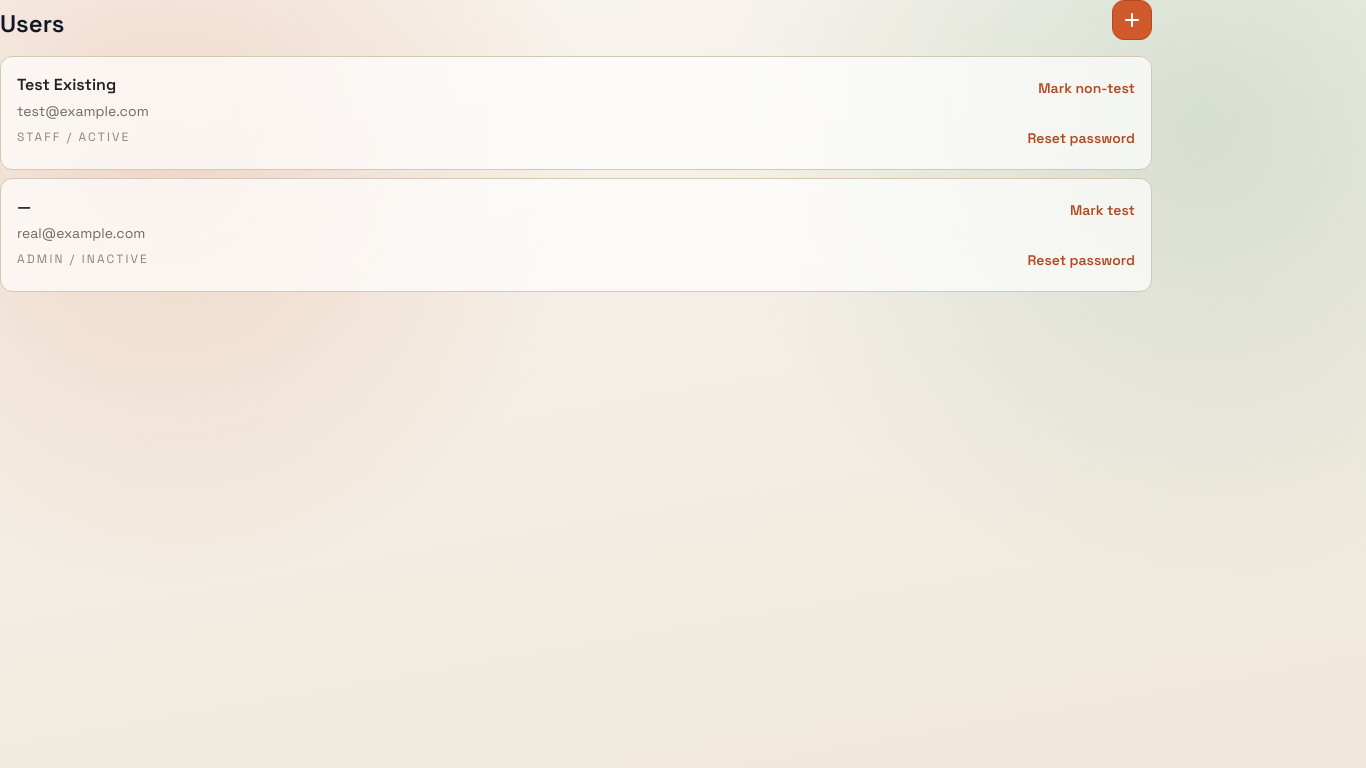
Scenario: UserRegistrationClient › submits isTest and updates the colocated user list after successful registration
This screenshot has width=1366, height=768.
Click the button named "Register user" at (1132, 20), box [1112,0,1152,40]
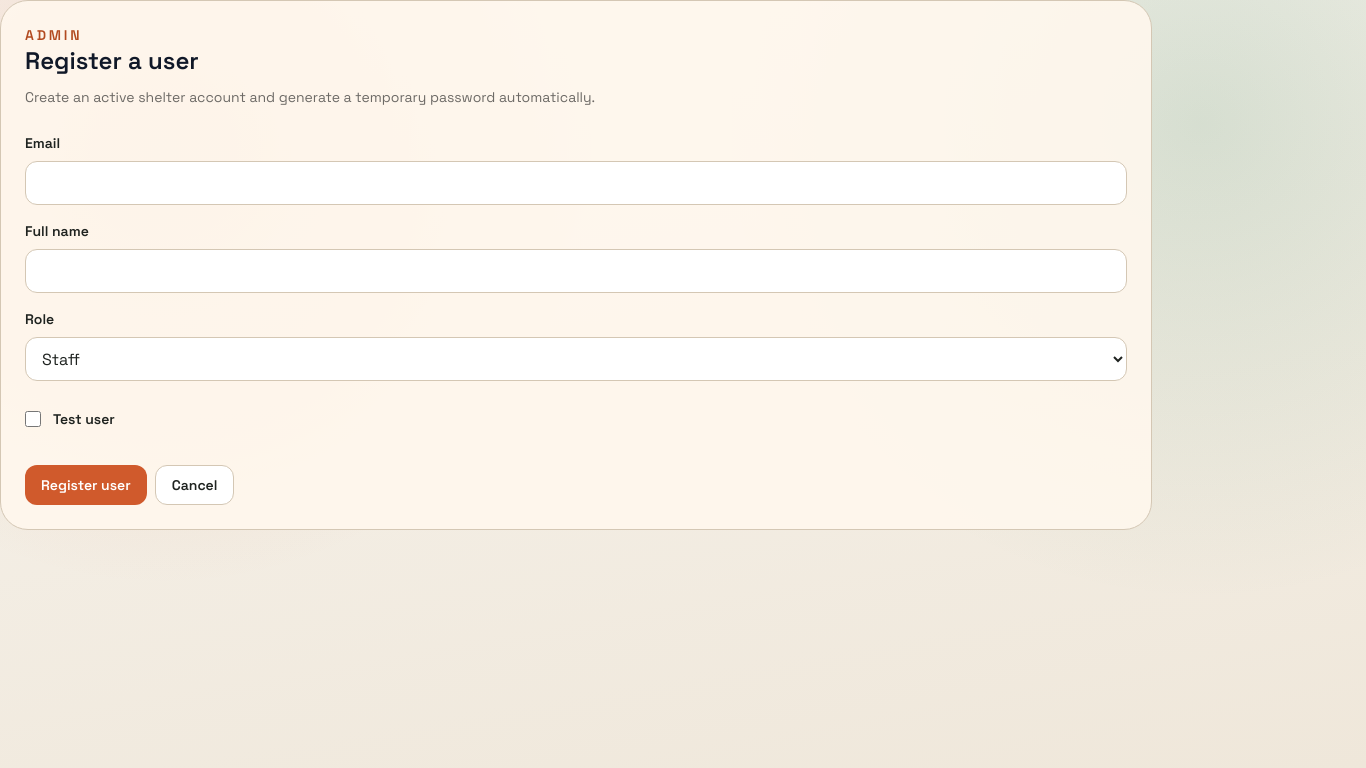
Type "new@example.com" into the field labelled "Email" at (576, 183), box [25,161,1127,205]
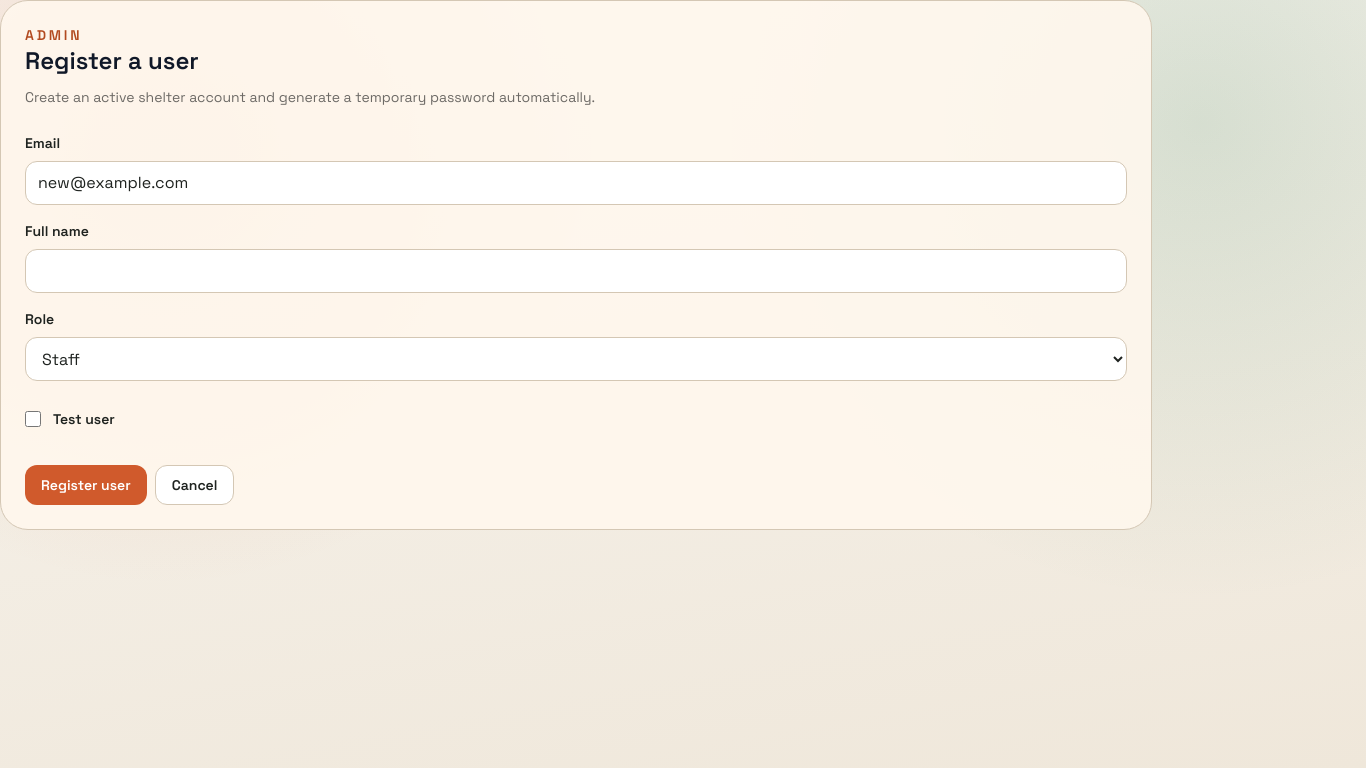
Type "New User" into the field labelled "Full name" at (576, 271), box [25,249,1127,293]
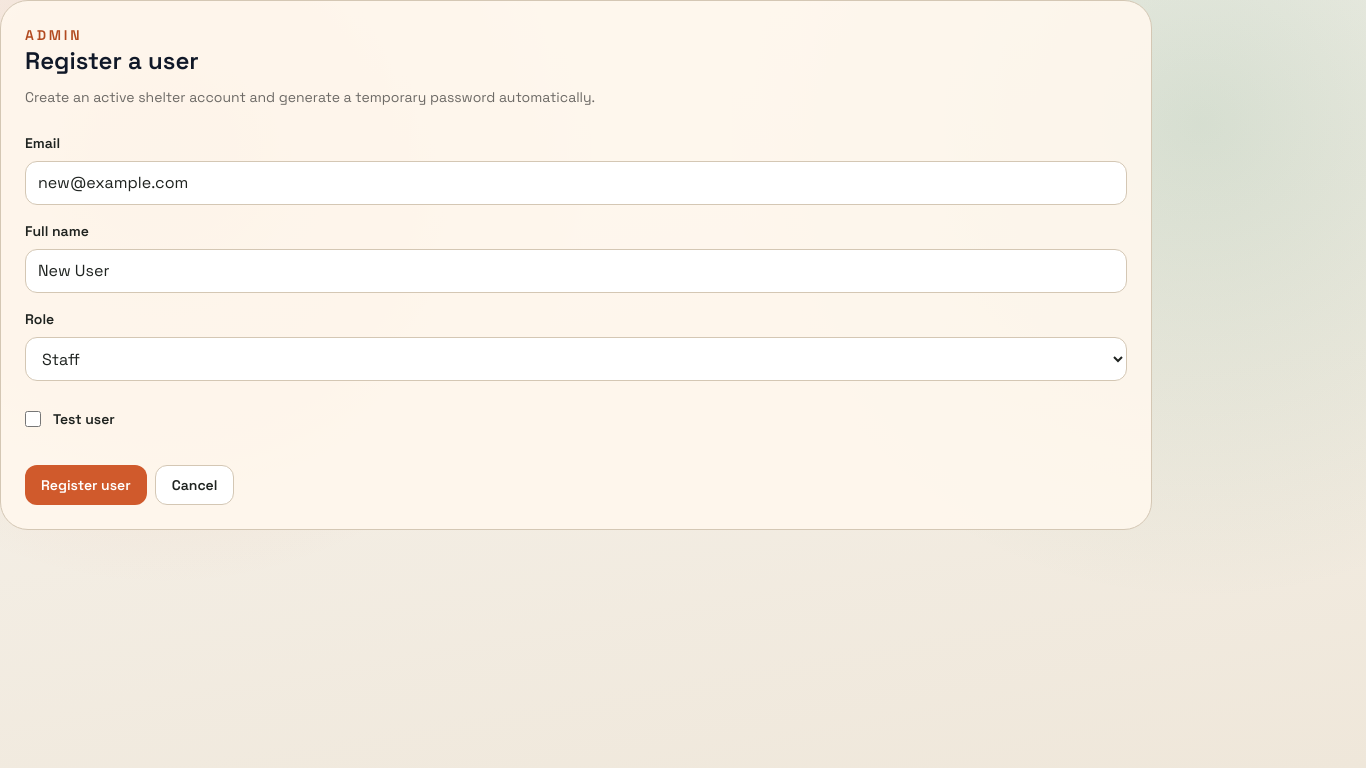
Click the checkbox labelled "Test user" at (33, 419), box [25,411,41,427]
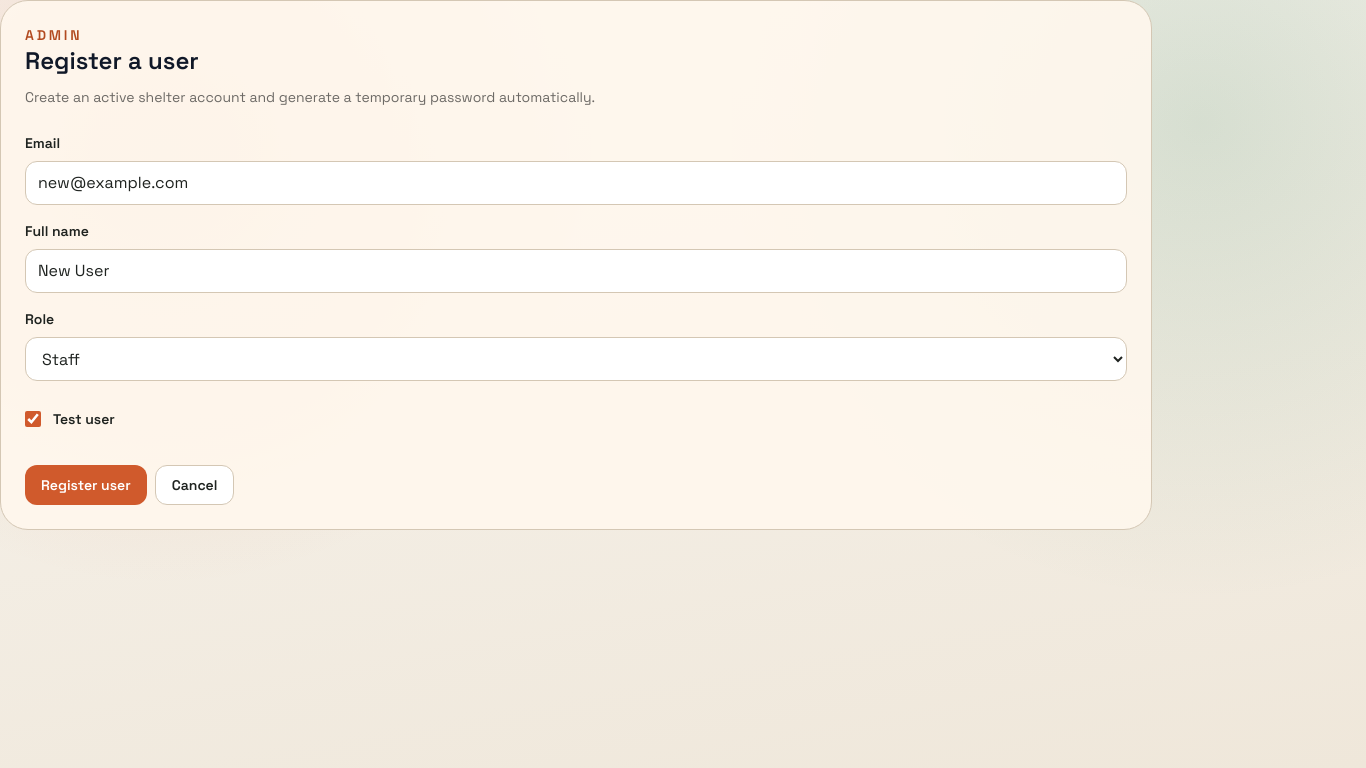
Click the button "Register user" at (86, 485), box [25,465,147,505]
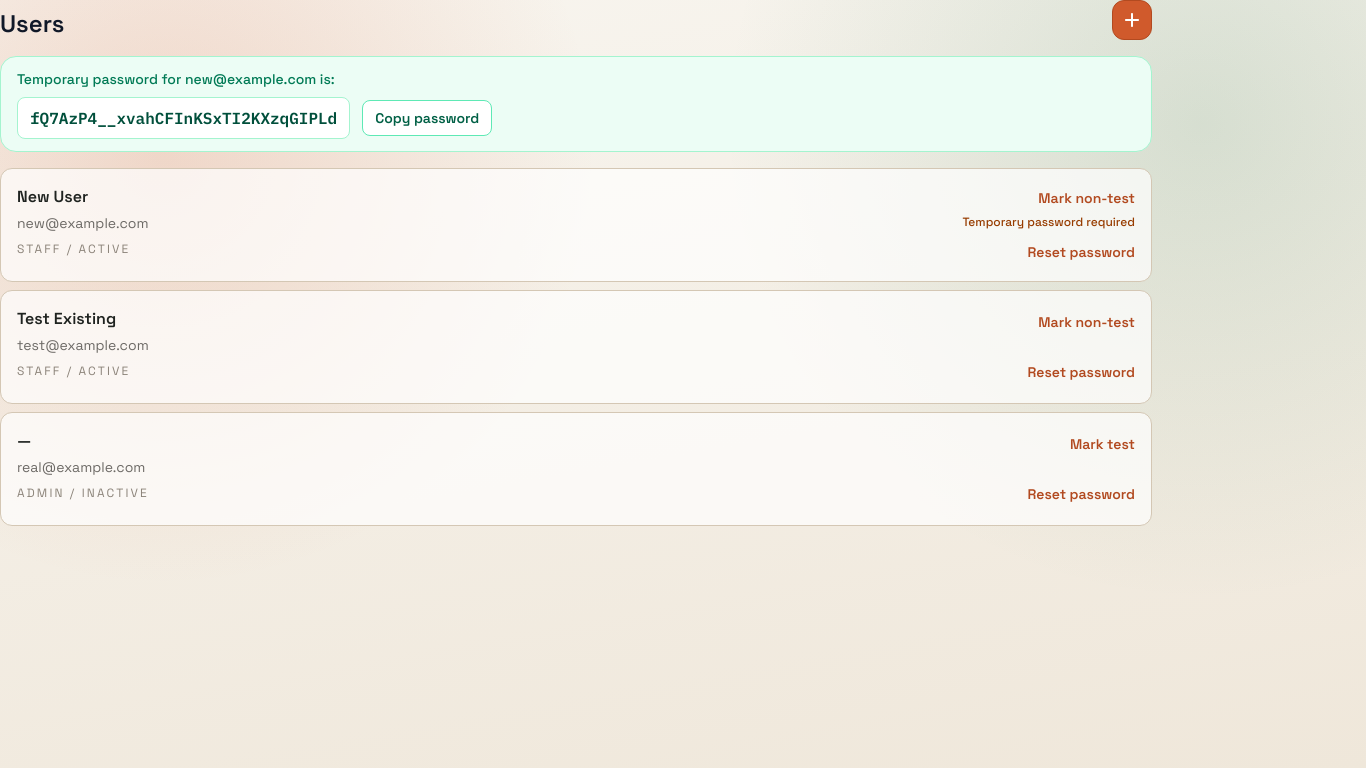
Now the text "Temporary password for new@example.com is:" is shown, box [17,70,335,88]
Now the text "New User" is shown, box [17,186,88,207]
Now the button "Copy password" is shown, box [362,100,492,136]
